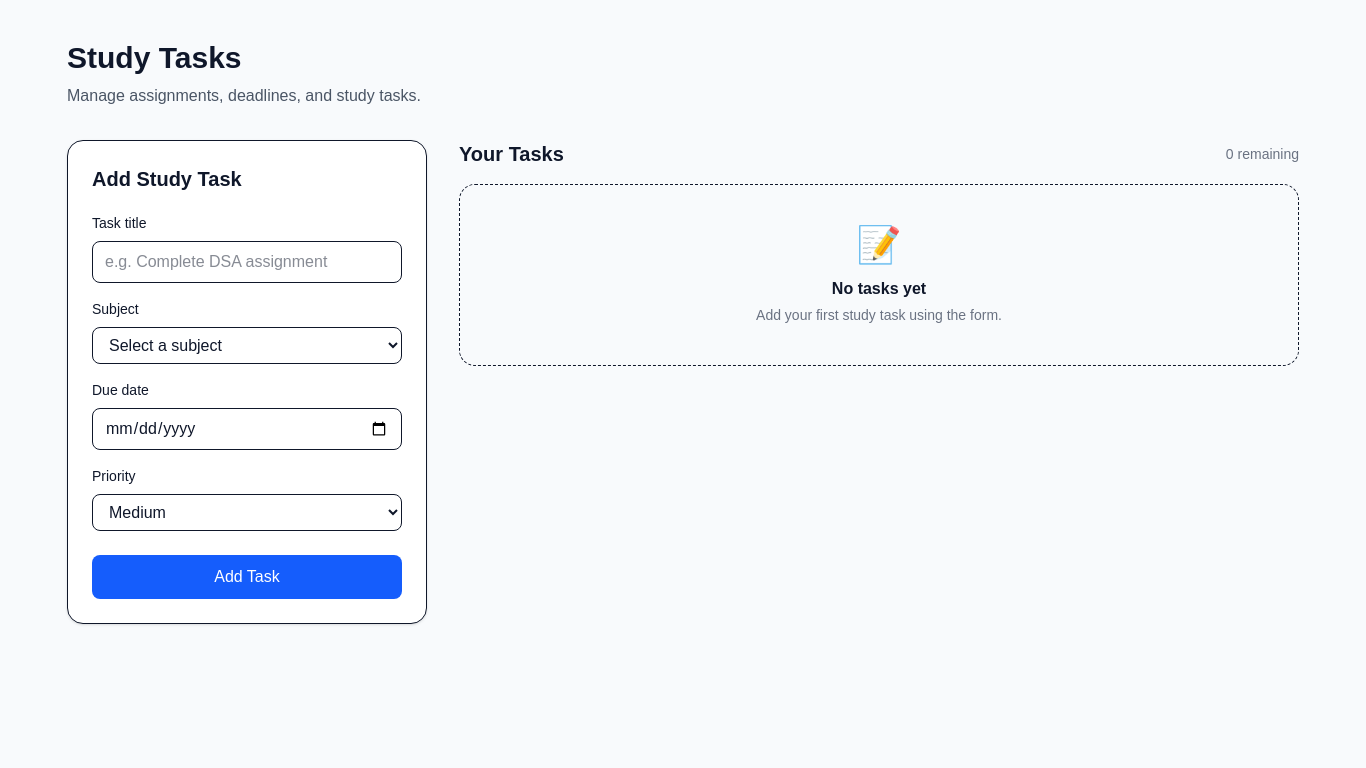
Scenario: Tasks › adds a task when valid information is submitted
Type "Study Binary Search" into the field labelled "Task title" at (247, 262), box [92, 241, 402, 283]
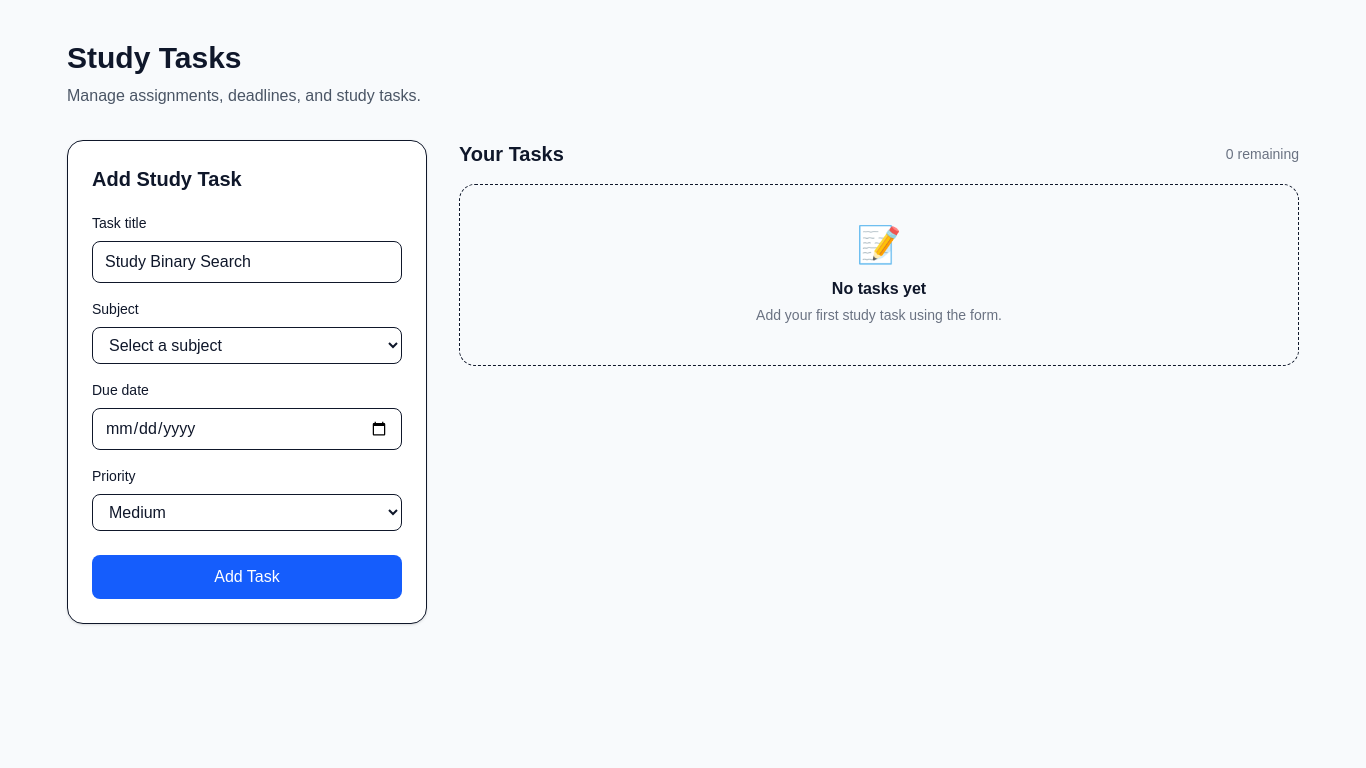
Select "Data Structures & Algorithms" in the dropdown labelled "Subject" at (247, 346), box [92, 327, 402, 364]
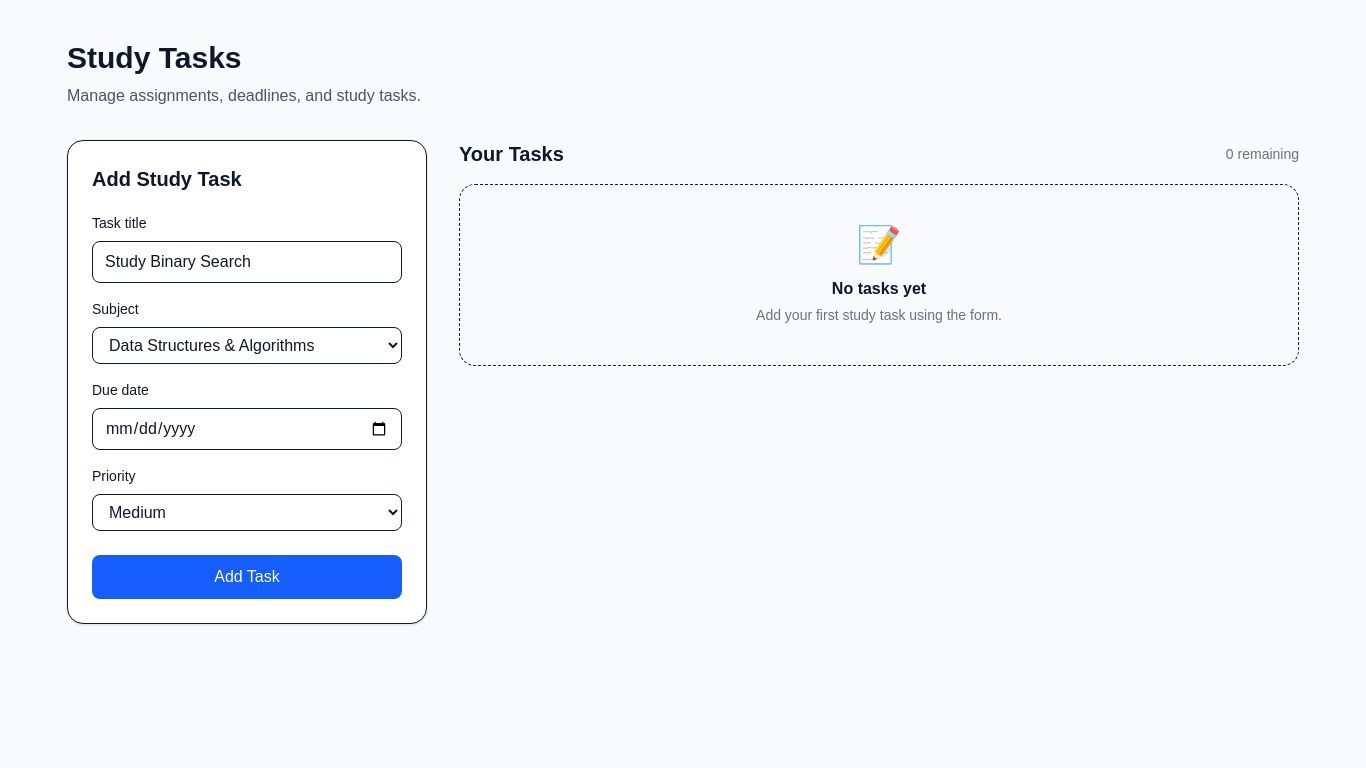
Type "2026-08-25" into the date field labelled "Due date" at (247, 429), box [92, 408, 402, 450]
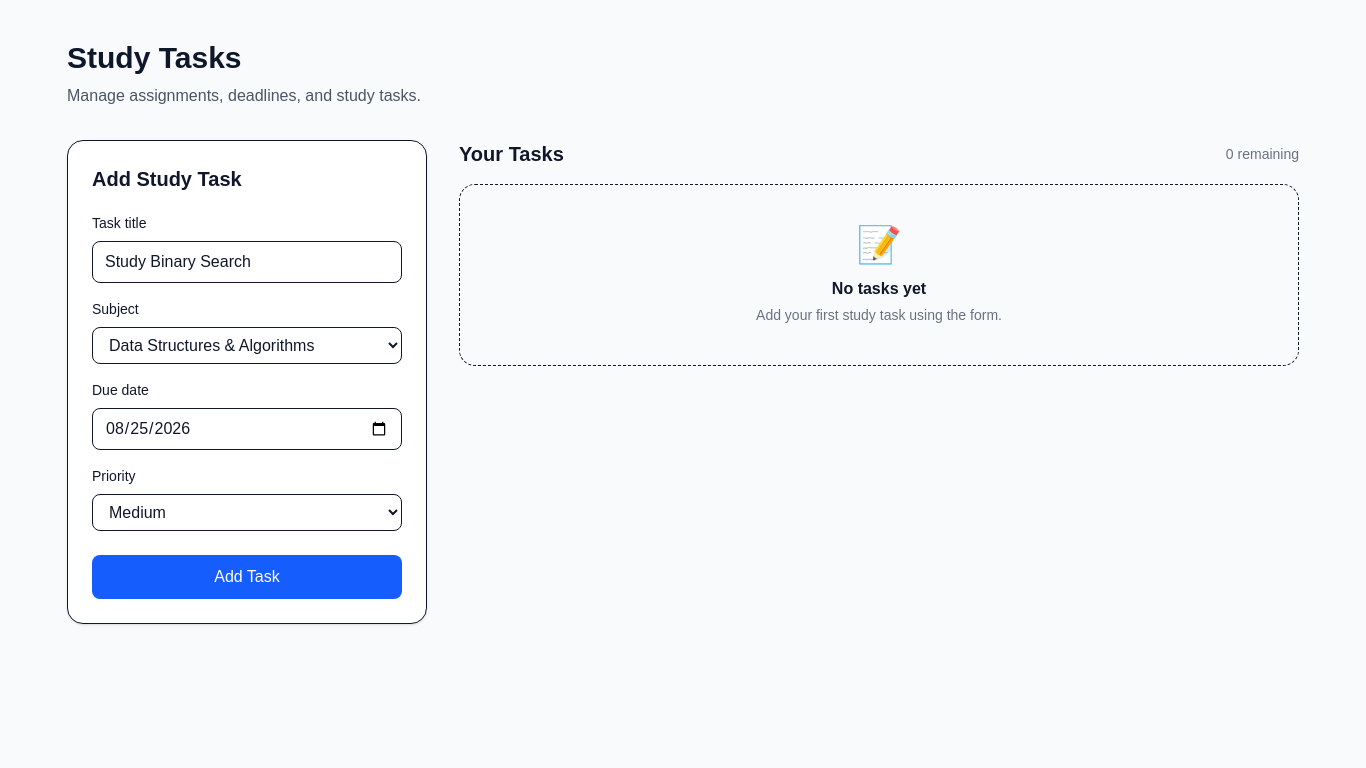
Click the button "Add Task" at (247, 577), box [92, 555, 402, 599]
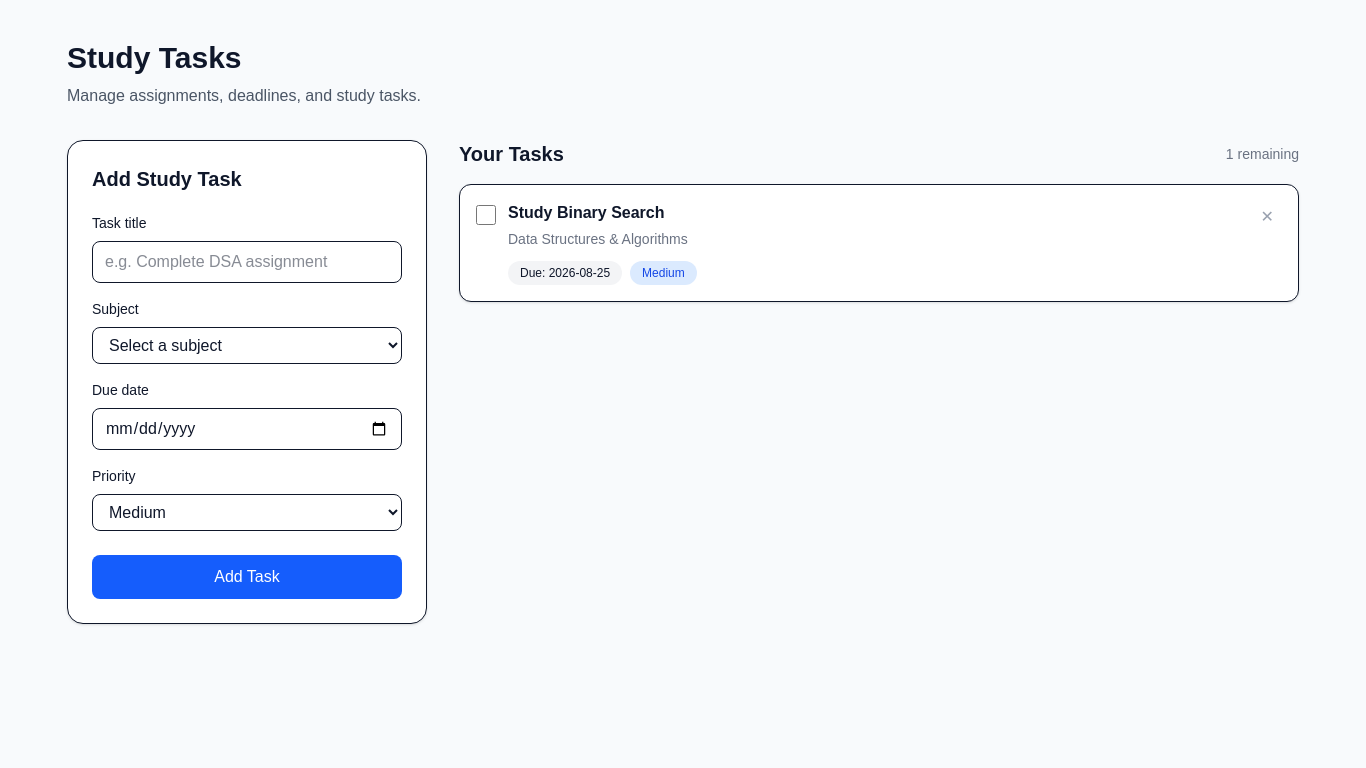
Result: the heading "Study Binary Search" is shown at [508, 204, 664, 221]
Result: the element "Study Binary Search" is shown at [459, 184, 1299, 302]
Result: the text "Data Structures & Algorithms" is shown at [508, 231, 688, 247]
